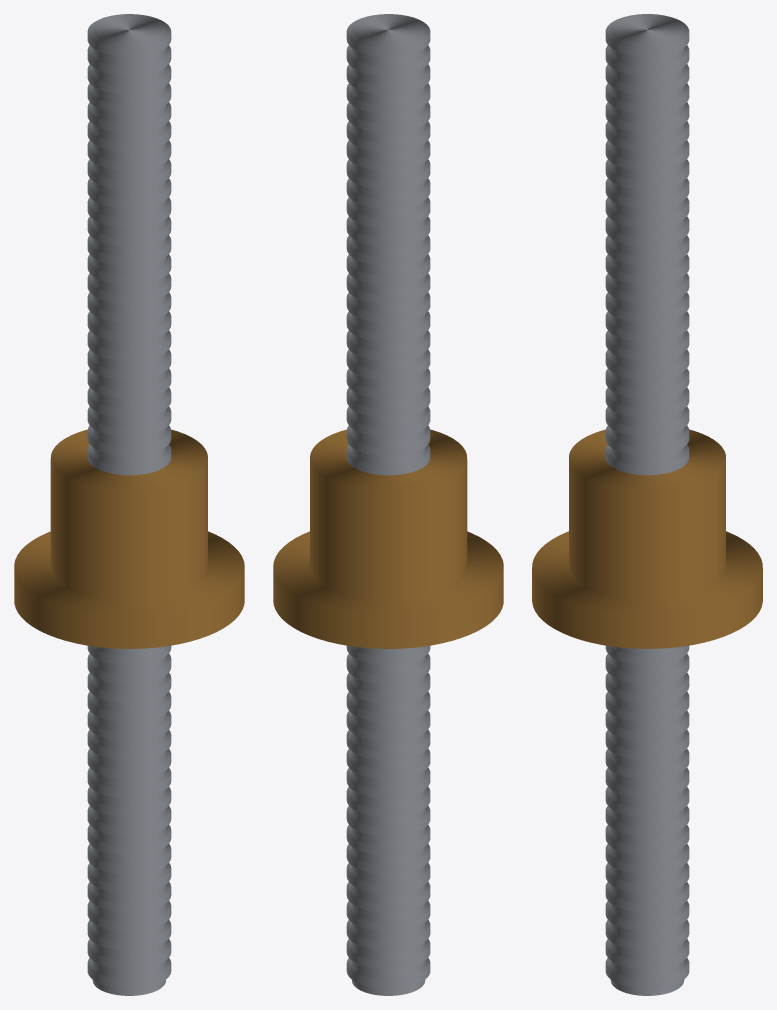
File: lead_screw_nut.obj
The picture shows the model from 3 angles, left to right: view 1: azimuth 30°, elevation 25°; view 2: azimuth 150°, elevation 25°; view 3: azimuth 270°, elevation 25°; orthographic projection.
Parts seen in each view (by area): view 1: screw, nut, nut_flange, thread_crest_50, thread_crest_7, thread_crest_6, thread_crest_8, thread_crest_5, thread_crest_9, thread_crest_10, thread_crest_11, thread_crest_12 (+32 smaller); view 2: screw, nut, nut_flange, thread_crest_50, thread_crest_7, thread_crest_6, thread_crest_8, thread_crest_5, thread_crest_9, thread_crest_10, thread_crest_11, thread_crest_12 (+32 smaller); view 3: screw, nut, nut_flange, thread_crest_50, thread_crest_5, thread_crest_4, thread_crest_6, thread_crest_3, thread_crest_7, thread_crest_8, thread_crest, thread_crest_2 (+32 smaller).
Boxes of the visible parts, x1,y1,x2,y2 form: screw: (92, 14, 165, 995); nut: (50, 429, 207, 600); nut_flange: (14, 531, 244, 648); thread_crest_50: (87, 14, 171, 56); thread_crest_7: (87, 844, 171, 874); thread_crest_6: (87, 863, 171, 893); thread_crest_8: (87, 825, 171, 855); thread_crest_5: (87, 882, 171, 912); thread_crest_9: (87, 806, 171, 836); thread_crest_10: (87, 787, 171, 817); thread_crest_11: (87, 768, 171, 798); thread_crest_12: (87, 749, 171, 779); screw: (352, 14, 425, 995); nut: (310, 429, 467, 600); nut_flange: (273, 531, 503, 648); thread_crest_50: (346, 14, 430, 56); thread_crest_7: (346, 844, 430, 874); thread_crest_6: (346, 863, 430, 893); thread_crest_8: (346, 825, 430, 855); thread_crest_5: (346, 882, 430, 912); thread_crest_9: (346, 806, 430, 836); thread_crest_10: (346, 787, 430, 817); thread_crest_11: (346, 768, 430, 798); thread_crest_12: (346, 749, 430, 779); screw: (610, 14, 684, 995); nut: (569, 429, 725, 600); nut_flange: (532, 531, 762, 648); thread_crest_50: (605, 14, 689, 56); thread_crest_5: (605, 882, 689, 912); thread_crest_4: (605, 901, 689, 931); thread_crest_6: (605, 863, 689, 893); thread_crest_3: (605, 920, 689, 950); thread_crest_7: (605, 844, 689, 874); thread_crest_8: (605, 825, 689, 855); thread_crest: (605, 958, 689, 988); thread_crest_2: (605, 939, 689, 969).
Size of the model in its own units: 0.022 by 0.1 by 0.022.
